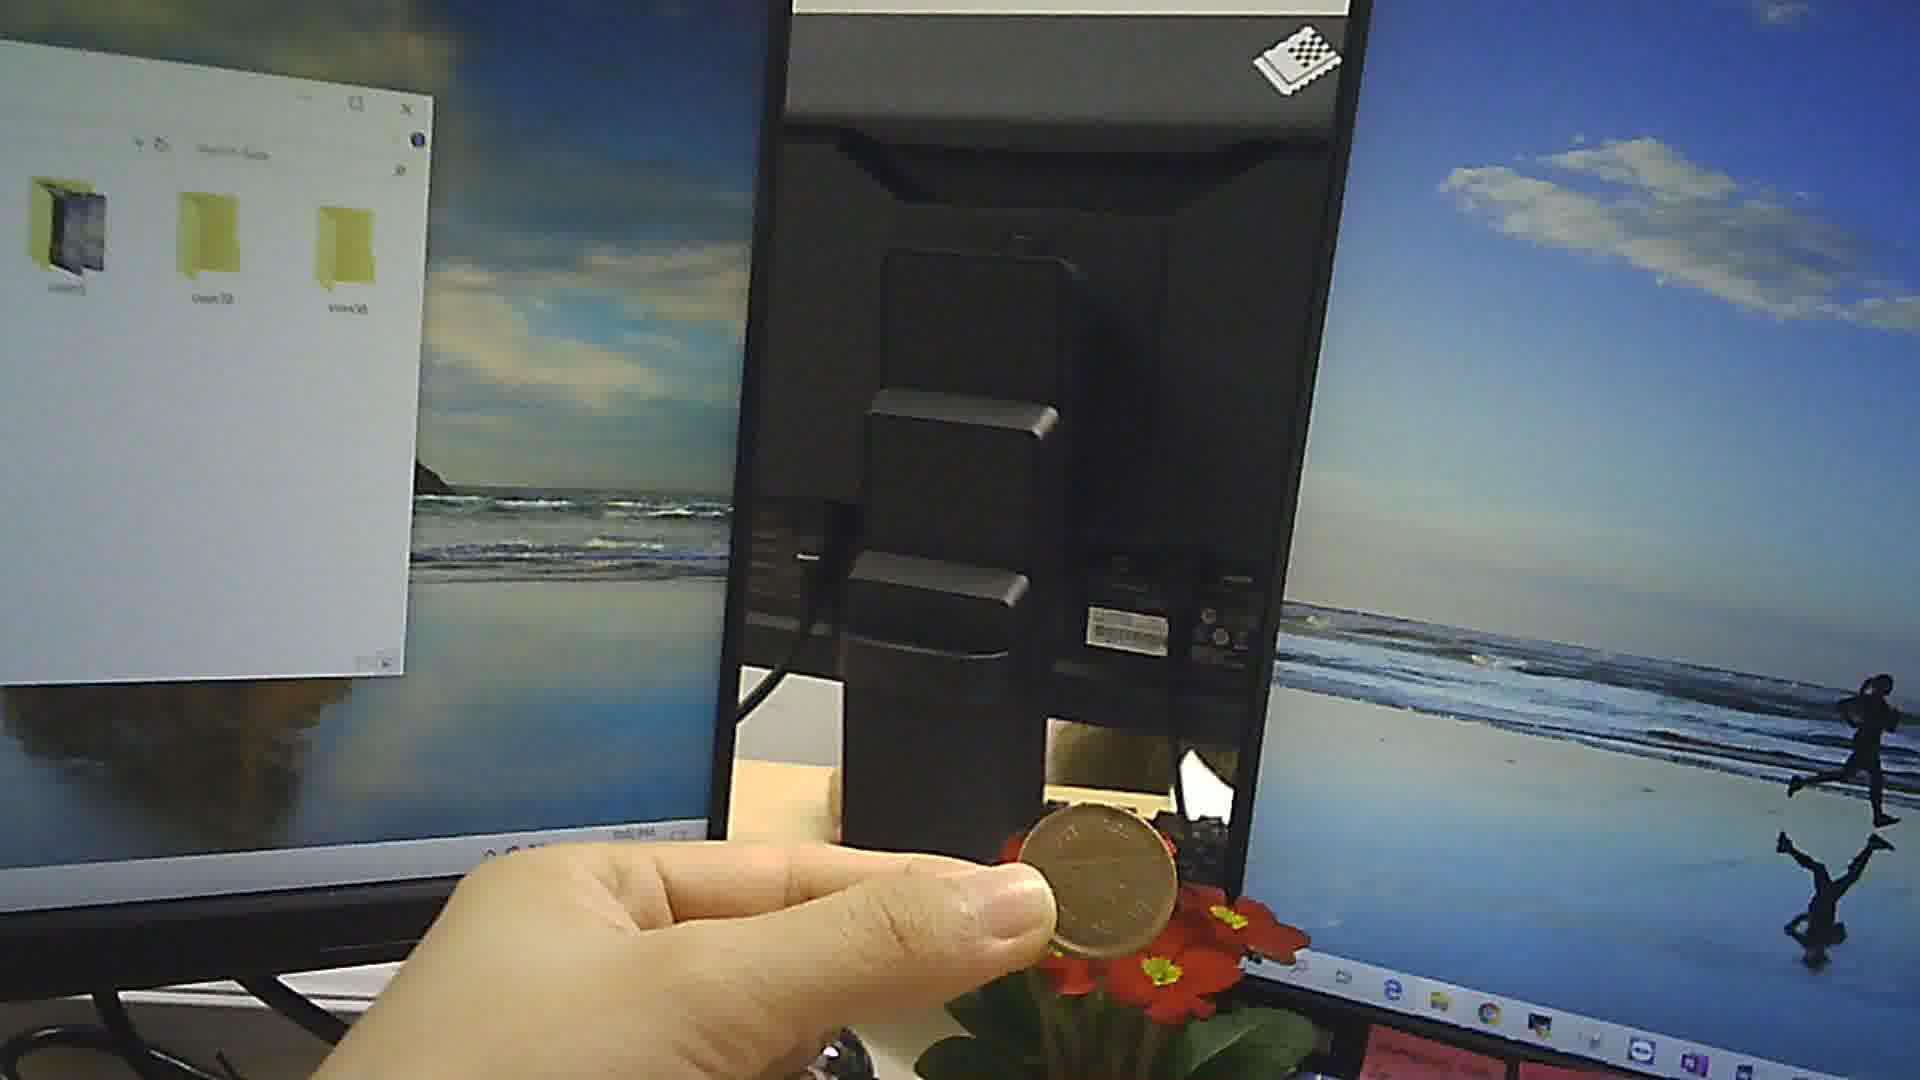10 Yen: (1013, 798, 1185, 967)
